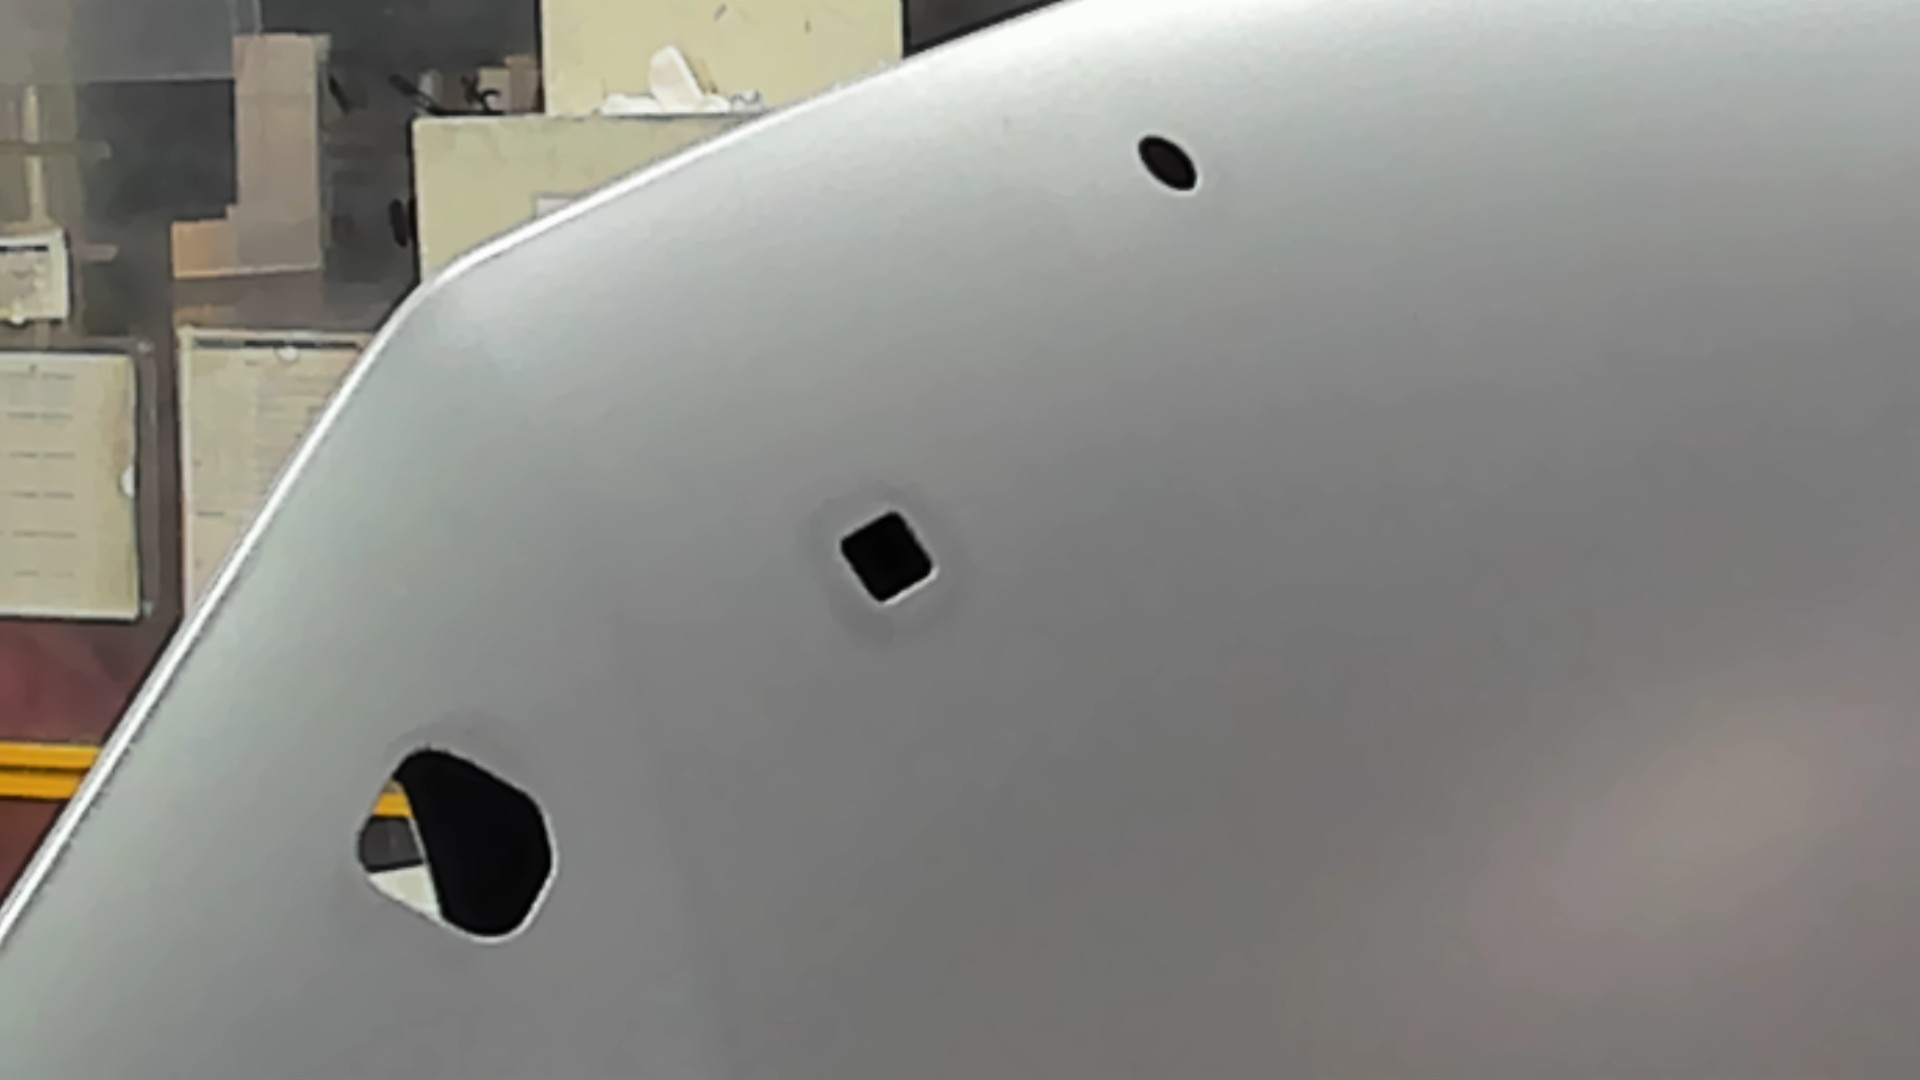chico: (1133, 129, 1207, 196)
grande: (347, 741, 564, 949)
mediano: (833, 504, 939, 613)
